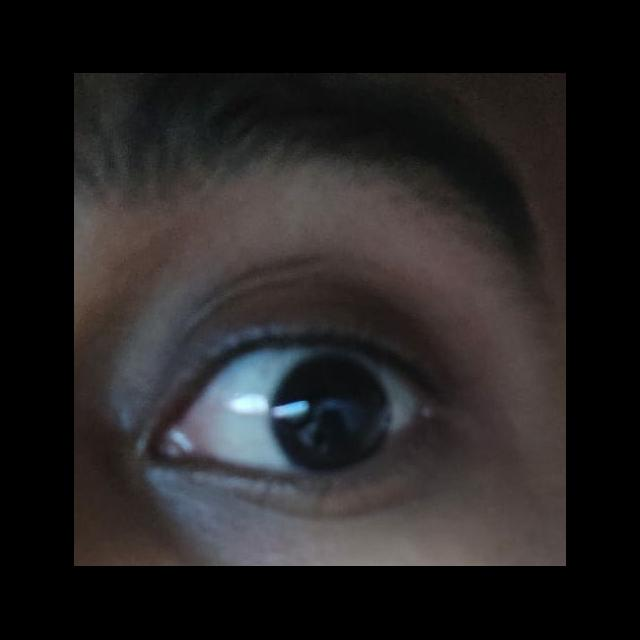eye: (188, 342, 426, 479)
iris: (270, 356, 391, 474)
